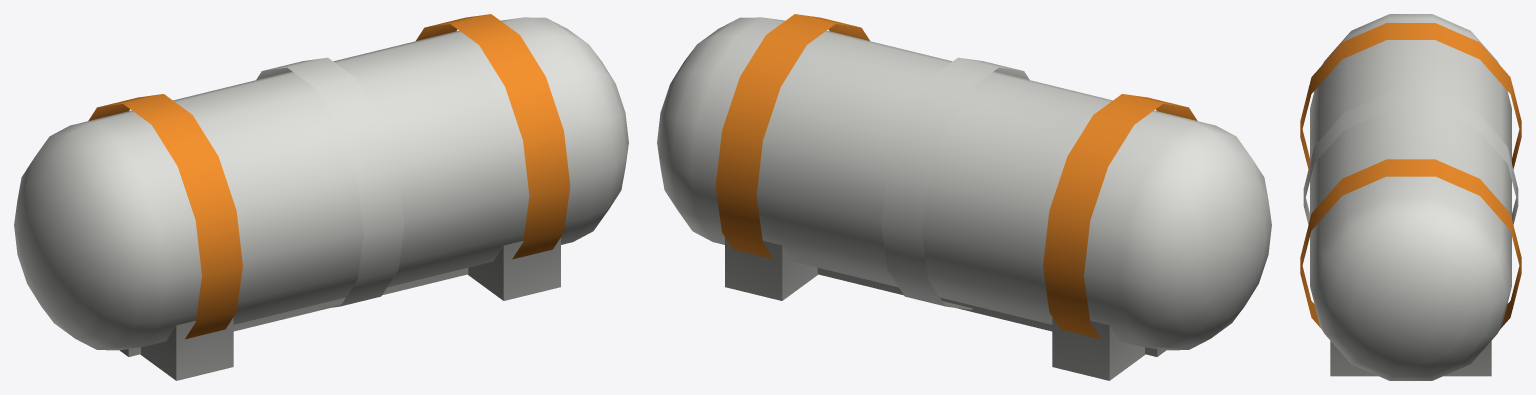
File: raft-canister.glb
3 views of the same model, side by side, from view 1: azimuth 30°, elevation 25°; view 2: azimuth 150°, elevation 25°; view 3: azimuth 270°, elevation 25° (orthographic). The views are drawn at different scales.
Visible parts, largest first — view 1: lifeboat, paint-f08a24; view 2: lifeboat, paint-f08a24; view 3: lifeboat, paint-f08a24.
Boxes of the visible parts, bbox=[...] form: lifeboat: bbox=[14, 17, 628, 380]; paint-f08a24: bbox=[88, 14, 570, 339]; lifeboat: bbox=[657, 17, 1271, 380]; paint-f08a24: bbox=[715, 14, 1197, 339]; lifeboat: bbox=[1303, 14, 1518, 380]; paint-f08a24: bbox=[1300, 23, 1521, 329].
Size of the model in its own units: 0.7 by 0.2686 by 0.274.
